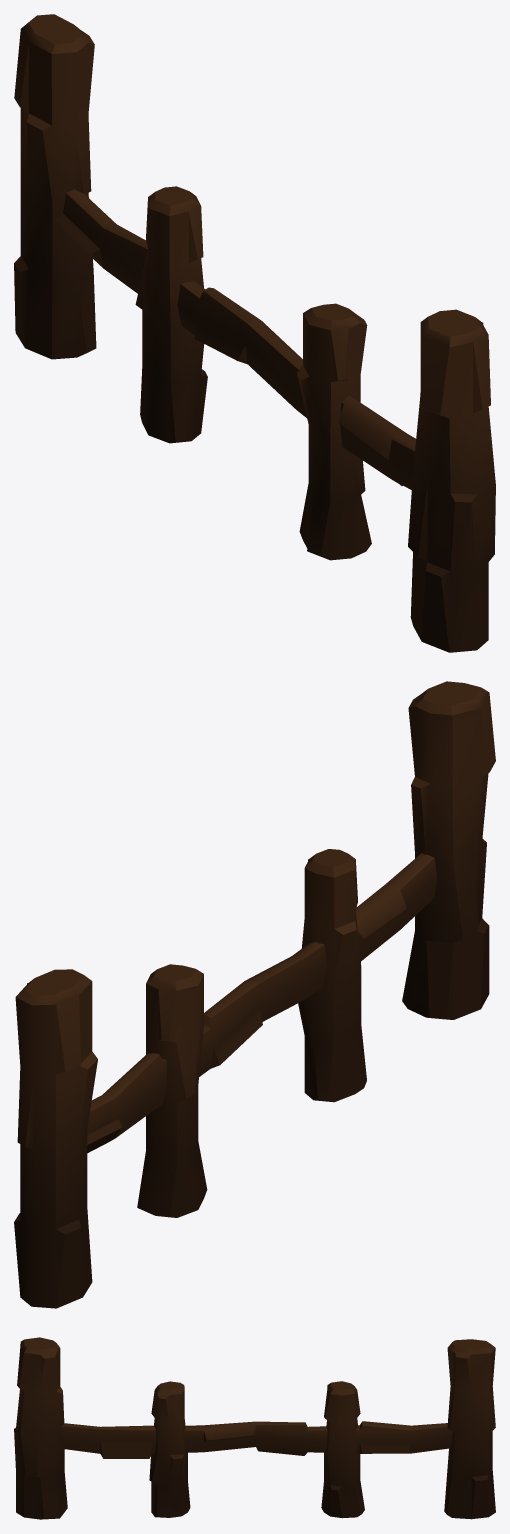
Rendered from Fence_1.fbx.
3 views of the same model, one above another, from view 1: azimuth 30°, elevation 25°; view 2: azimuth 150°, elevation 25°; view 3: azimuth 270°, elevation 25° (orthographic). The views are drawn at different scales.
Parts seen in each view (by area): view 1: Fence_1; view 2: Fence_1; view 3: Fence_1.
Boxes of the visible parts, left/top/right/bottom form: Fence_1: left=14, top=14, right=495, bottom=652; Fence_1: left=14, top=681, right=495, bottom=1308; Fence_1: left=14, top=1337, right=495, bottom=1519.
Size of the model in its own units: 51.36 by 215 by 559.
